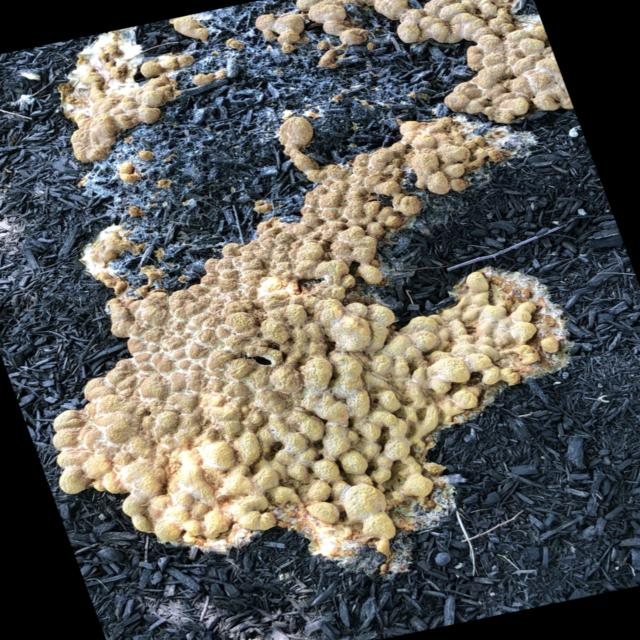Dog_vomit_slime_mold: (22, 0, 626, 640)
